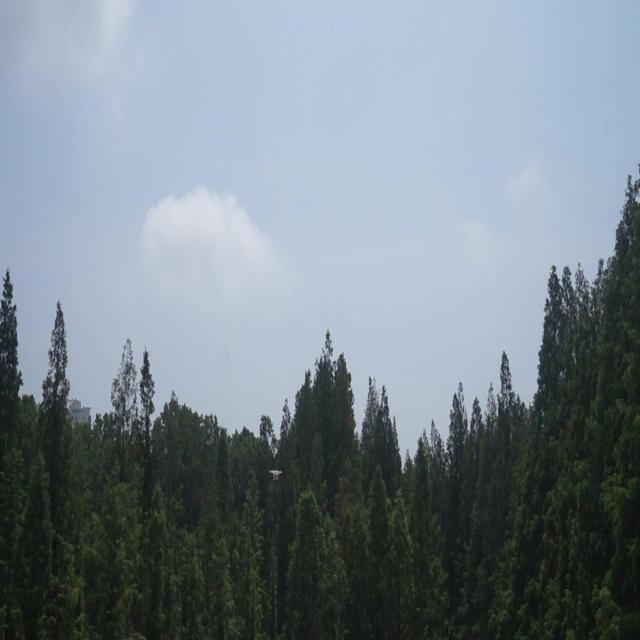drone: (268, 464, 282, 486)
